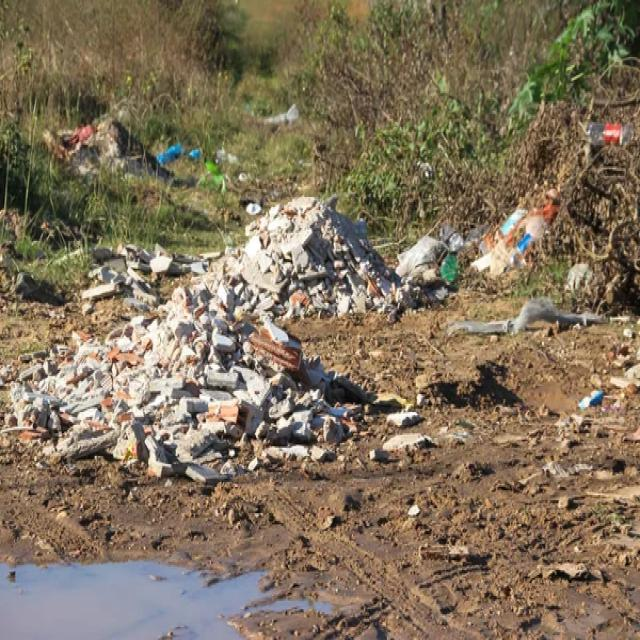garbage: (0, 186, 453, 490)
